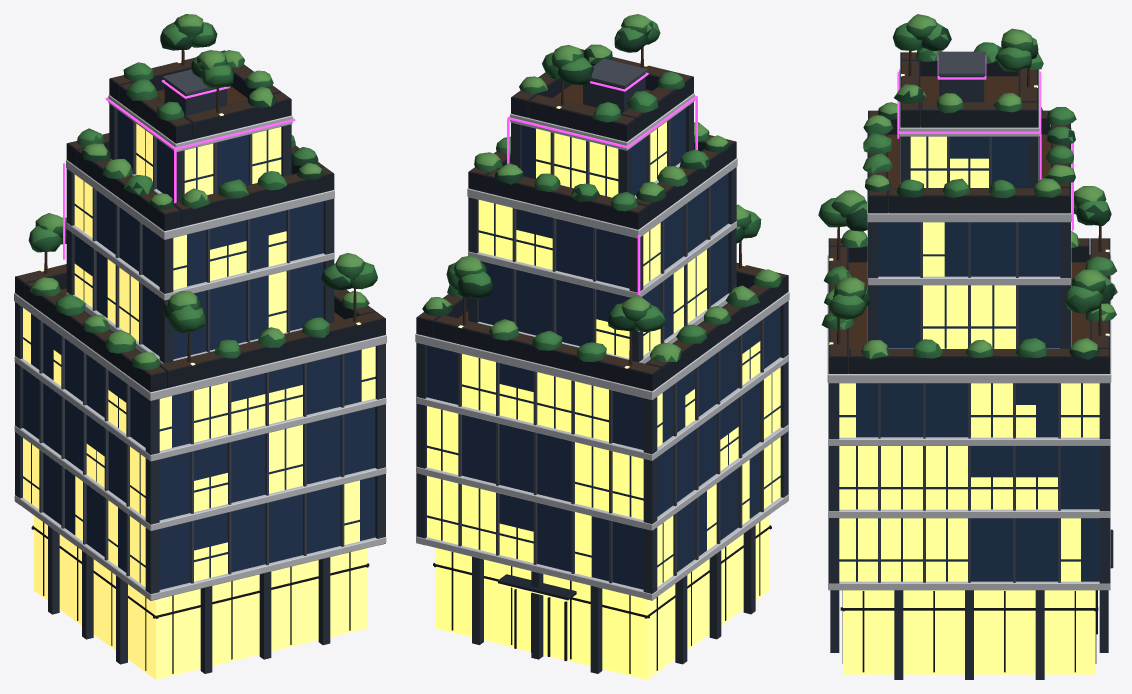
The model's file is tower_a.glb.
The picture shows the model from 3 angles, left to right: view 1: azimuth 30°, elevation 25°; view 2: azimuth 150°, elevation 25°; view 3: azimuth 270°, elevation 25°; orthographic projection. The views are drawn at different scales.
Visible parts, largest first — view 1: tower, garden, neon; view 2: tower, garden, neon; view 3: tower, garden, neon.
Boxes of the visible parts, x1,y1,x2,y2 form: tower: (14, 50, 386, 679); garden: (28, 14, 377, 369); neon: (63, 80, 295, 259); tower: (415, 49, 789, 679); garden: (422, 14, 781, 365); neon: (507, 72, 697, 331); tower: (827, 51, 1113, 679); garden: (818, 14, 1117, 359); neon: (897, 55, 1073, 230).
Bounding box in the file's own units: 11.84 × 26.55 × 12.05.
